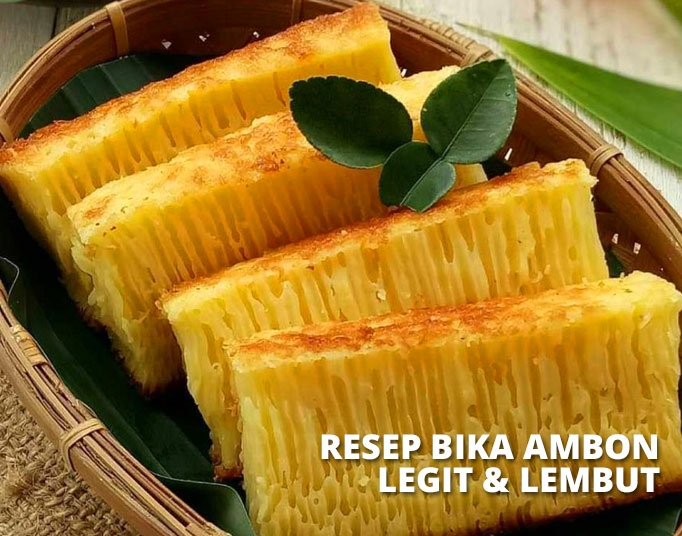bika_ambon: (149, 164, 634, 460), (207, 292, 682, 511)
